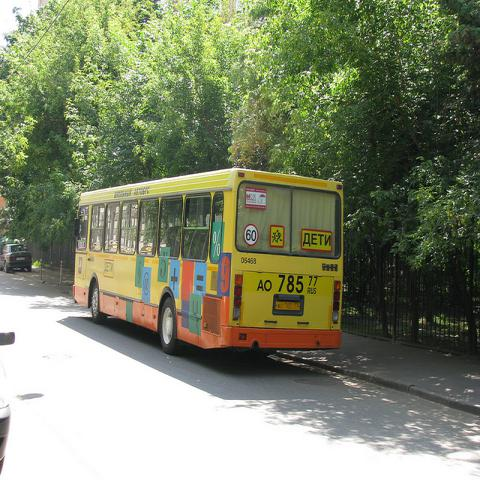bus: (73, 165, 344, 357)
car: (1, 244, 32, 273)
